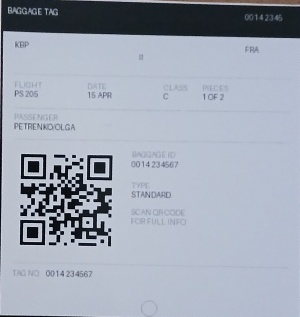LPN_bottom: (43, 267, 94, 280)
LPN_right: (128, 157, 181, 171)
